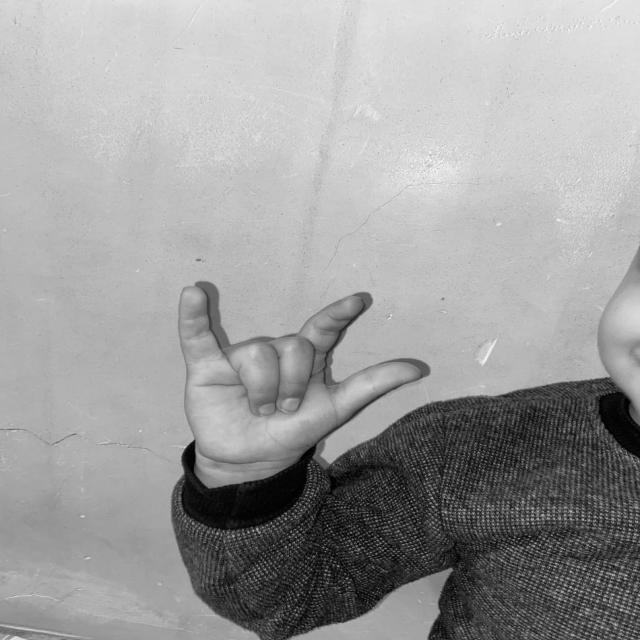i love you: (171, 276, 432, 484)
